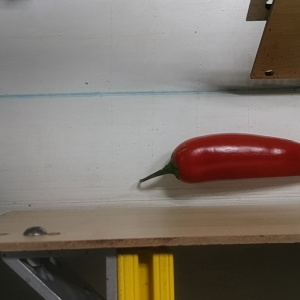Cut Point: (162, 144, 192, 184)
